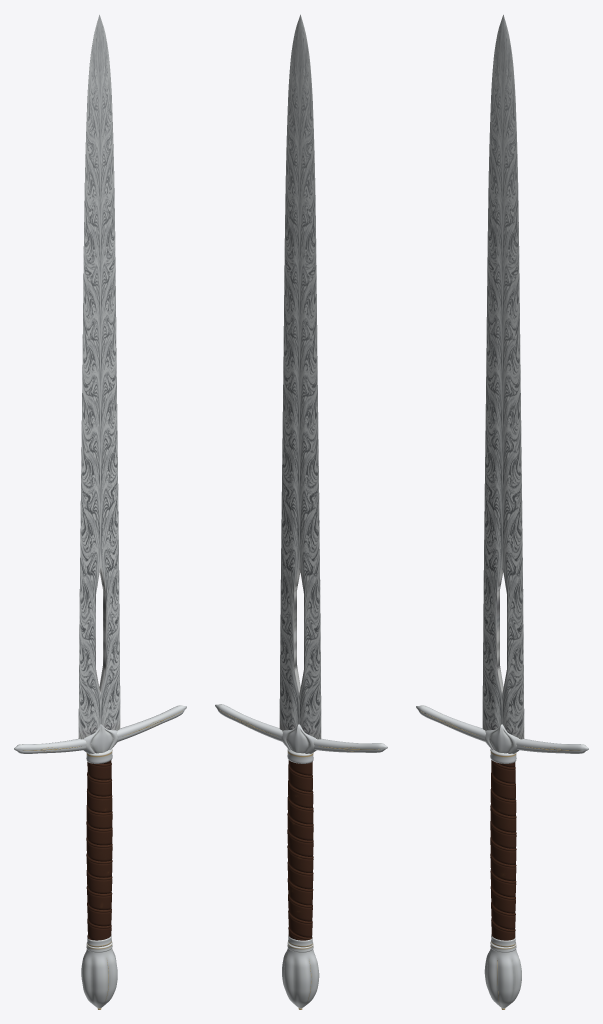
File: branch-sword-filament-v9.glb
3 renders of one model, left to right at view 1: azimuth 30°, elevation 25°; view 2: azimuth 150°, elevation 25°; view 3: azimuth 330°, elevation 25°, orthographic.
Parts seen in each view (by area): view 1: Blade, Grip, Guard, Pommel; view 2: Blade, Grip, Guard, Pommel; view 3: Blade, Grip, Guard, Pommel.
Boxes of the visible parts, bbox=[...] form: Blade: bbox=[78, 14, 120, 739]; Grip: bbox=[86, 760, 112, 947]; Guard: bbox=[14, 705, 186, 763]; Pommel: bbox=[81, 941, 117, 1009]; Blade: bbox=[279, 14, 321, 739]; Grip: bbox=[287, 760, 313, 947]; Guard: bbox=[215, 704, 387, 763]; Pommel: bbox=[282, 941, 319, 1009]; Blade: bbox=[482, 14, 524, 739]; Grip: bbox=[490, 760, 516, 947]; Guard: bbox=[416, 705, 588, 763]; Pommel: bbox=[484, 941, 521, 1009].
Size of the model in its own units: 0.23 by 1.27 by 0.0388.
8 materials, 4 textured.
